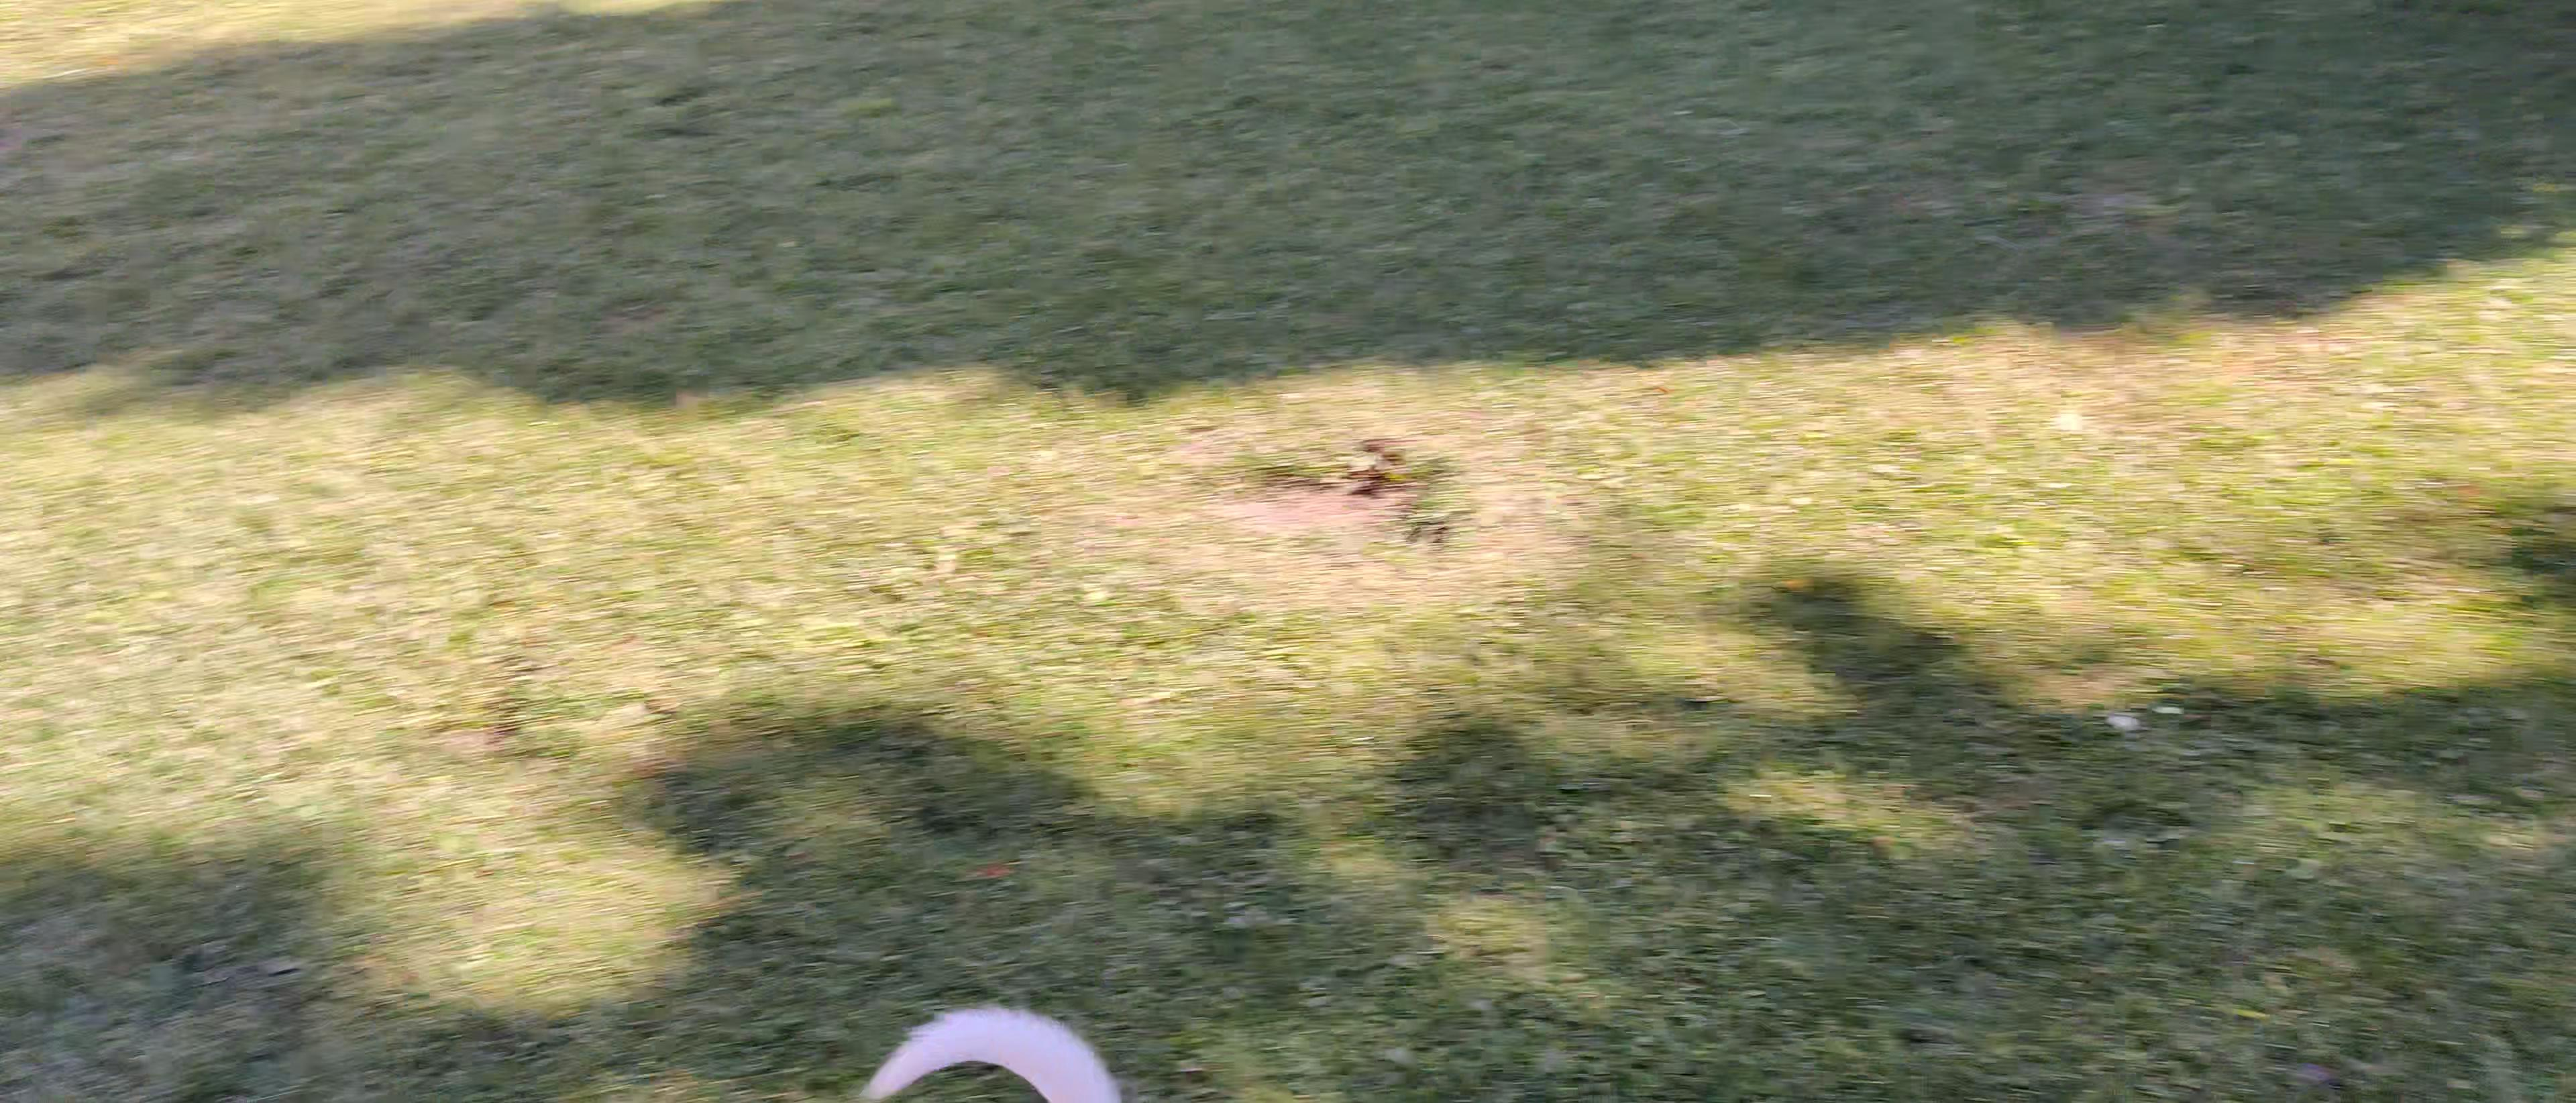Dog: (833, 973, 1148, 1103)
